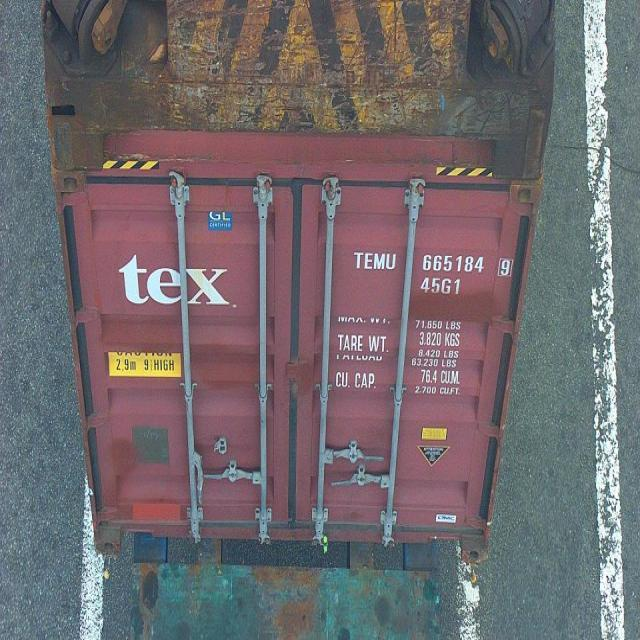ISO: (421, 278, 462, 296)
container_number: (362, 253, 516, 273)
